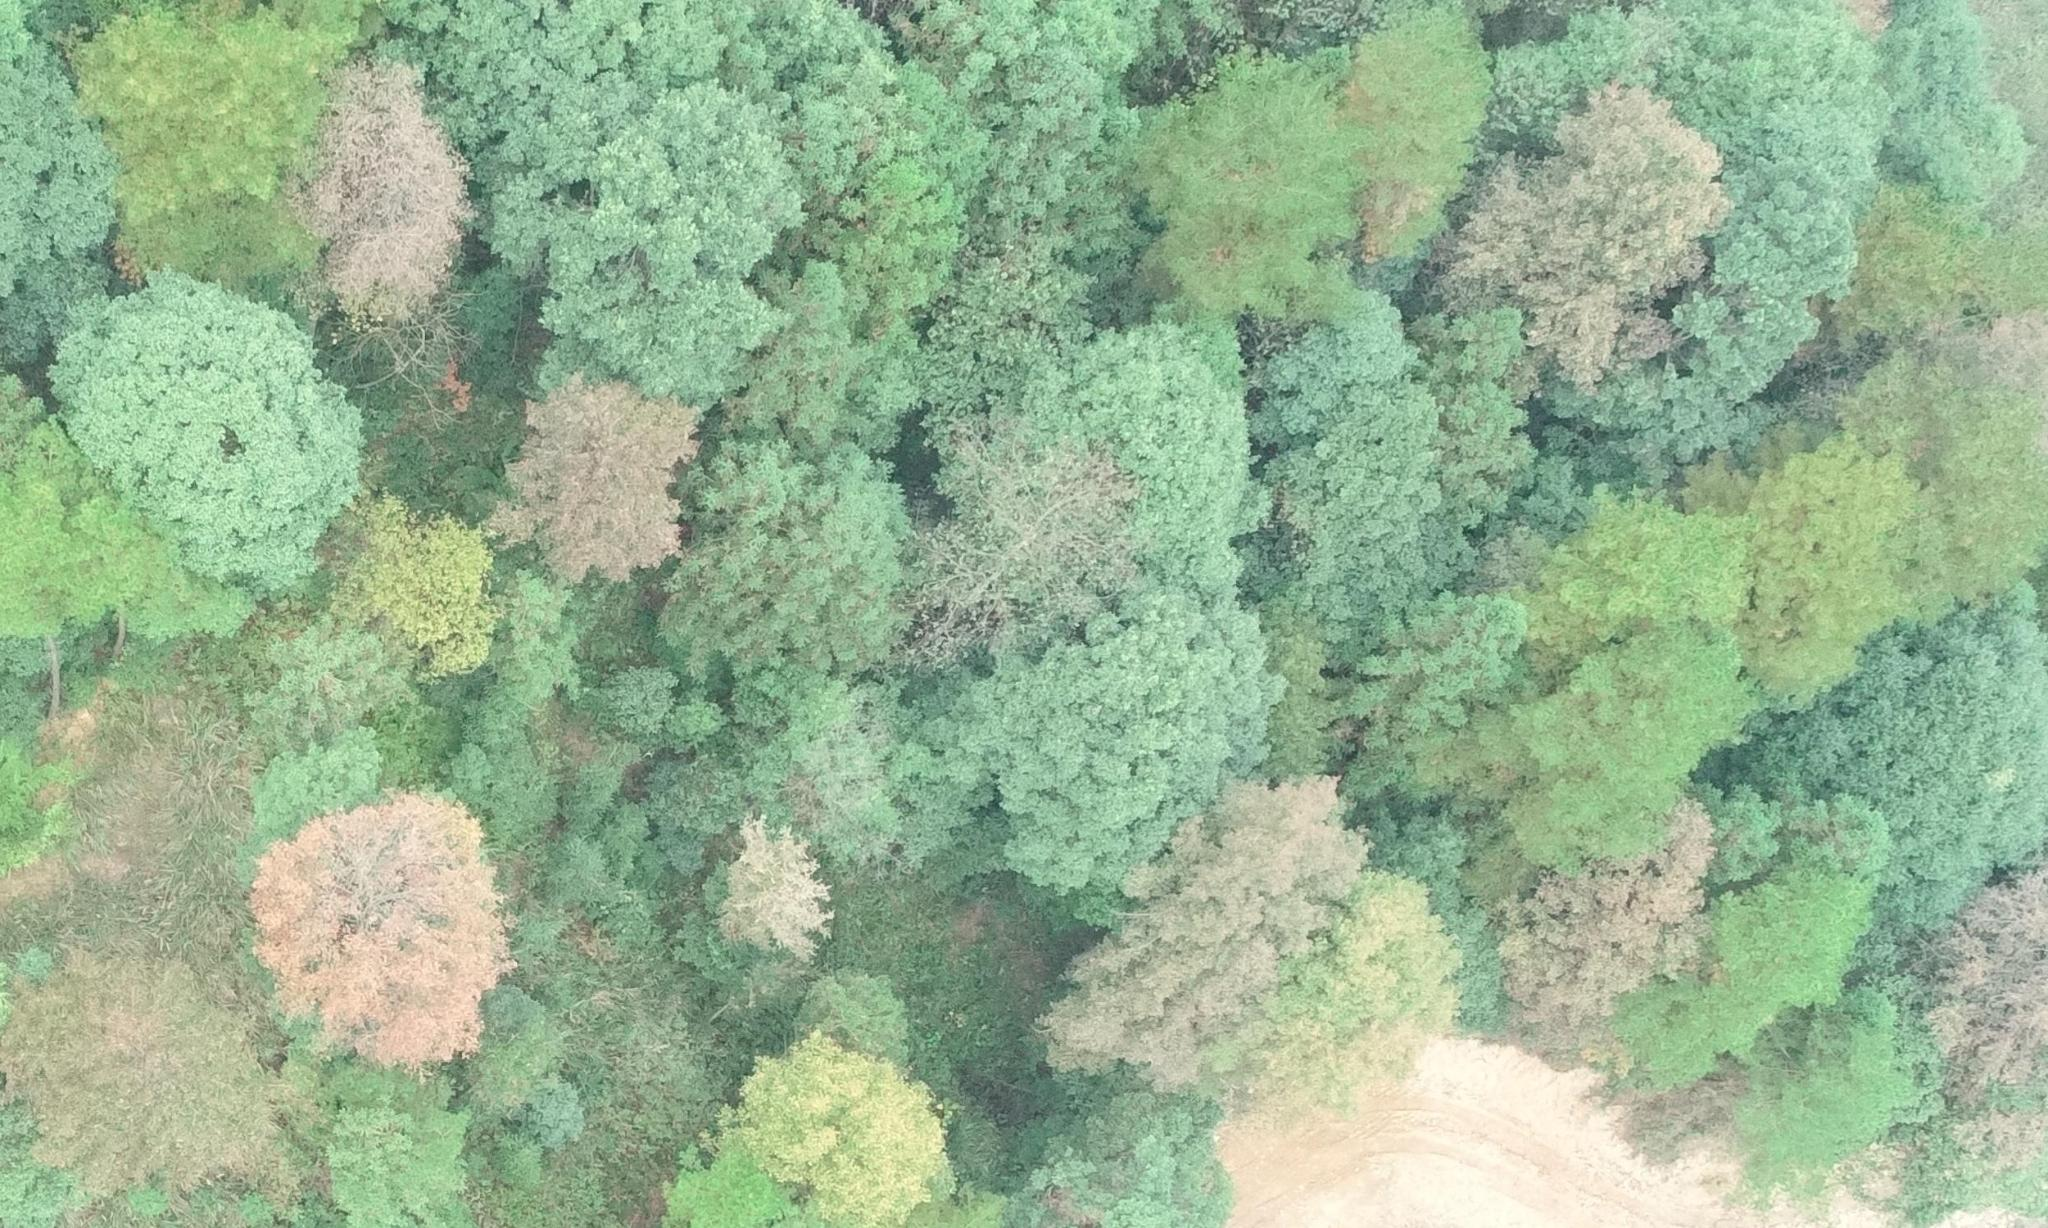heavy: (1035, 770, 1365, 1079), (224, 785, 519, 1073), (1455, 86, 1721, 377), (295, 57, 481, 351), (1494, 801, 1700, 1032), (501, 371, 699, 592), (722, 810, 830, 968)
